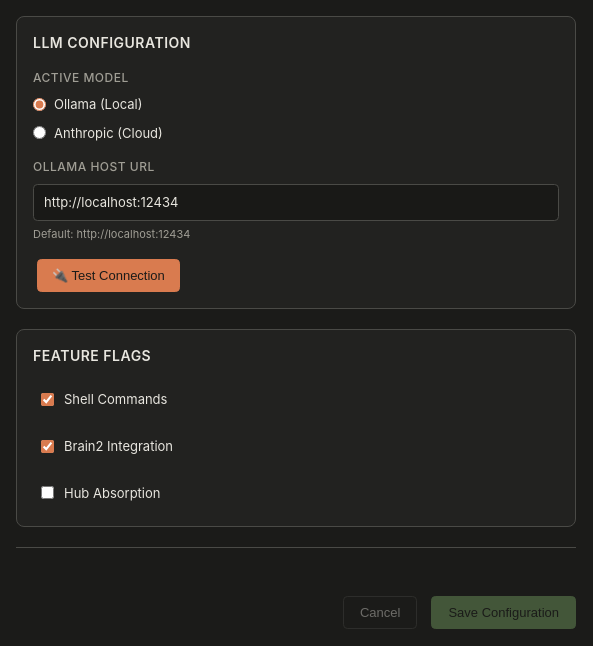
Test: Environment Component › saves configuration
expect the button "Save Configuration" is shown: met, box x1=431 y1=596 x2=576 y2=629
Type "http://localhost:9999" into the field showing "http://localhost:12434" at [296, 202], box x1=33 y1=184 x2=559 y2=221
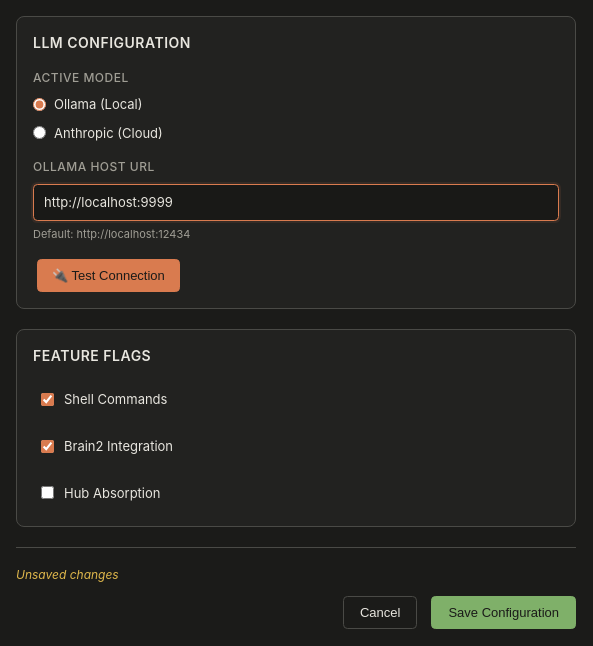
expect the button "Save Configuration" is enabled: met
Click the button "Save Configuration" at [504, 613], box x1=431 y1=596 x2=576 y2=629
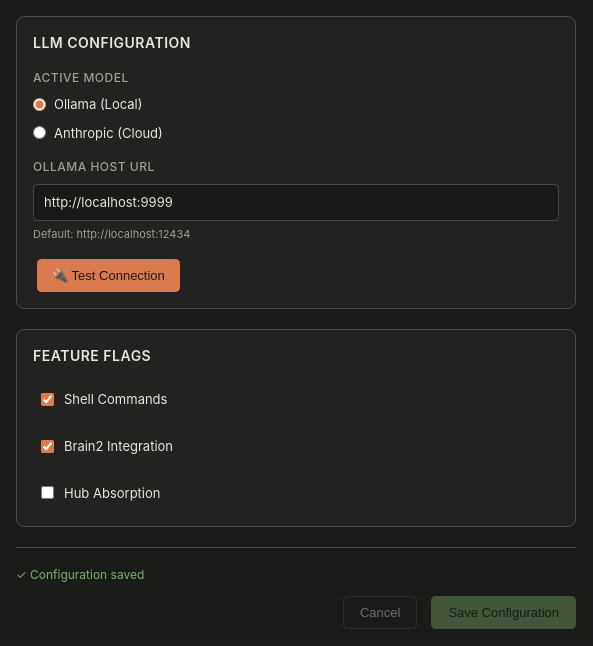
expect the text "✓ Configuration saved" is shown: met, box x1=16 y1=566 x2=144 y2=583
